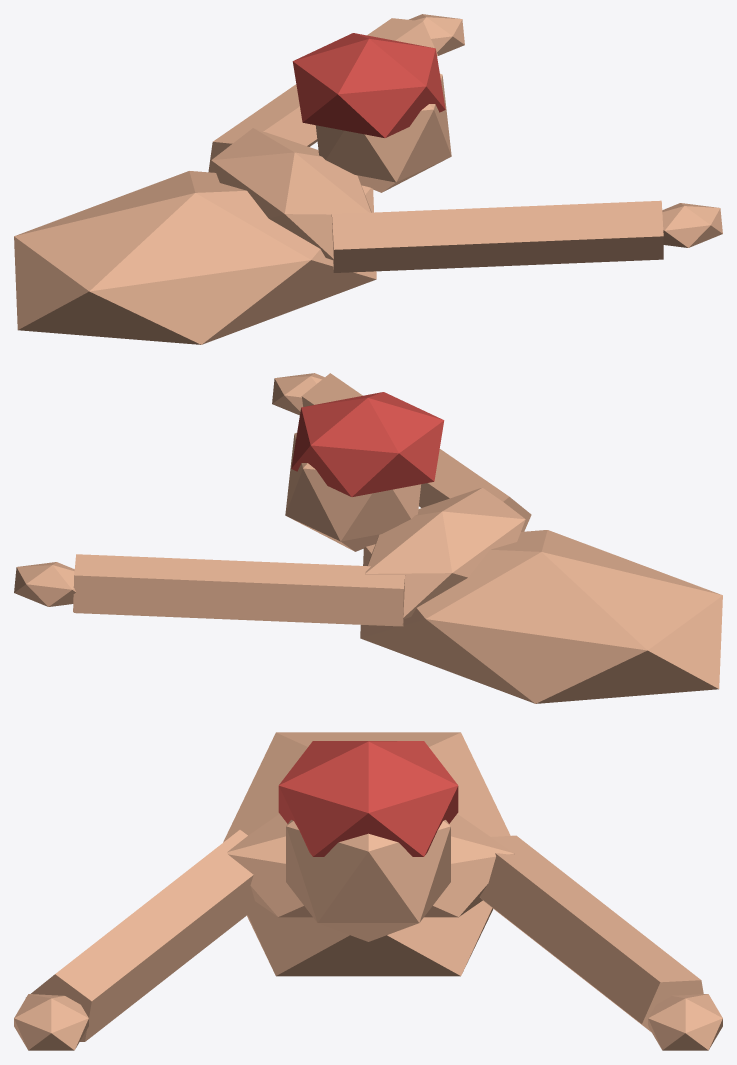
File: badare.glb
3 views of the same model, one above another, from view 1: azimuth 30°, elevation 25°; view 2: azimuth 150°, elevation 25°; view 3: azimuth 270°, elevation 25° (orthographic). The views are drawn at different scales.
Parts seen in each view (by area): view 1: badare; view 2: badare; view 3: badare.
Boxes of the visible parts, x1,y1,x2,y2 form: badare: (14, 14, 722, 344); badare: (14, 373, 722, 703); badare: (14, 732, 722, 1050).
Size of the model in its own units: 0.9244 by 0.372 by 0.8051.
